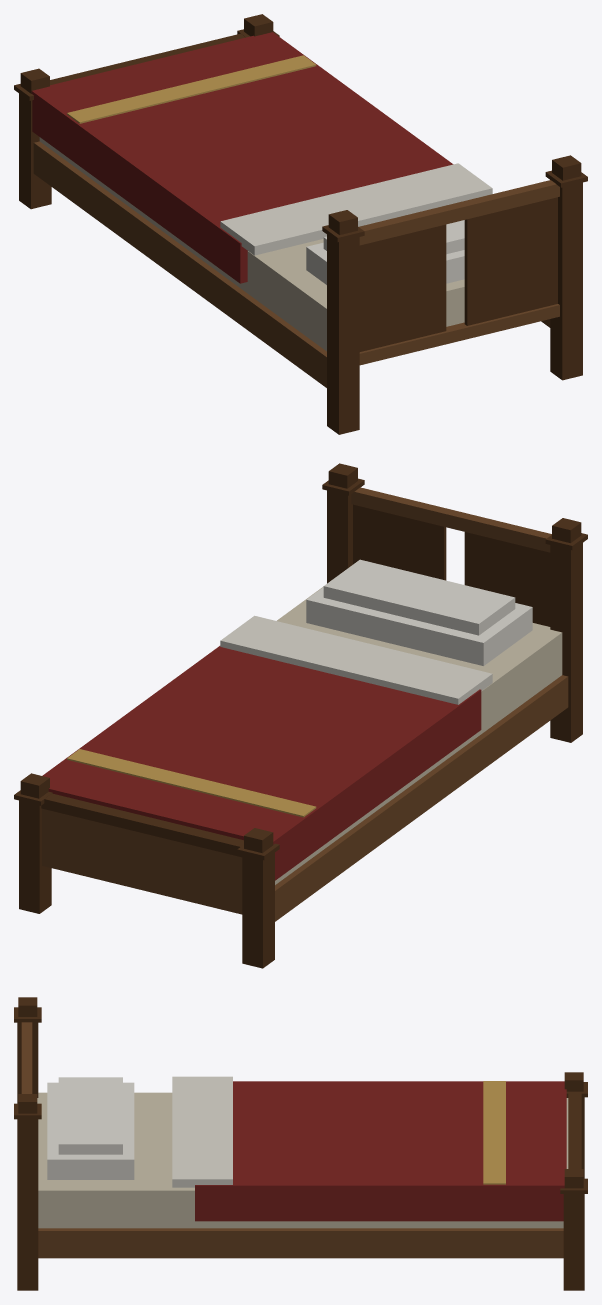
Rendered from bed-a.glb.
3 views of the same model, one above another, from view 1: azimuth 30°, elevation 25°; view 2: azimuth 150°, elevation 25°; view 3: azimuth 270°, elevation 25° (orthographic). The views are drawn at different scales.
Visible parts, largest first — view 1: bed-a; view 2: bed-a; view 3: bed-a.
Part boxes in pixels (<box>): bed-a: <box>14,14,587,434</box>; bed-a: <box>14,463,587,968</box>; bed-a: <box>14,997,587,1290</box>.
Bounding box in the file's own units: 0.3384 × 0.274 × 0.7584.
